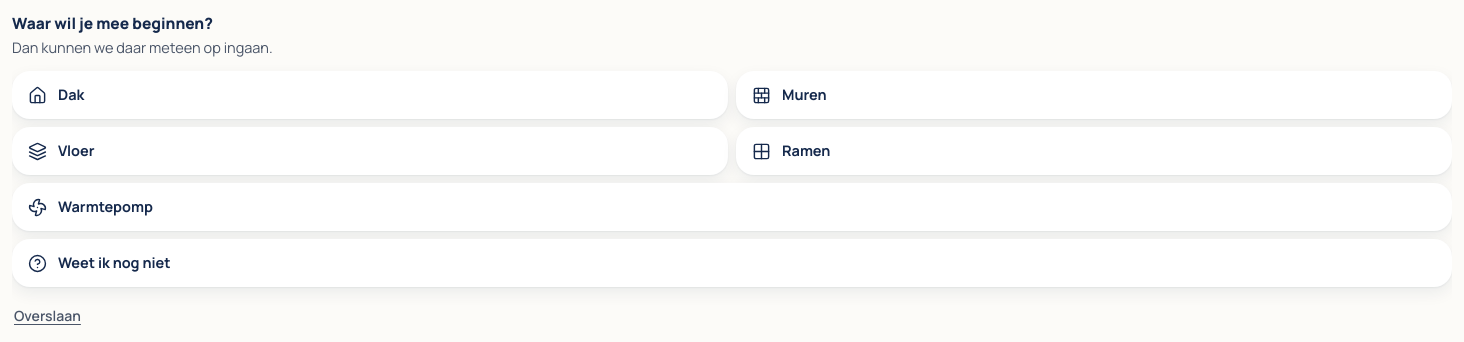
it: waar wil je mee beginnen? › 'Weet ik nog niet' bedankt wel maar stuurt niets naar de lead
The width and height of the screenshot is (1464, 342).
Click the radio button labelled "Weet ik nog niet". click: (114, 263)
box: [12,239,1452,287]
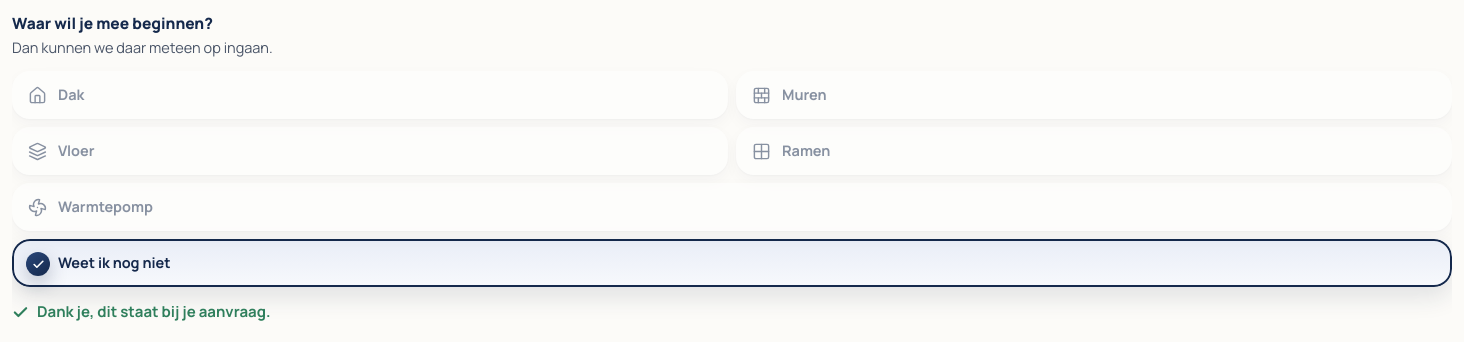
Expected: the text "Dank je, dit staat bij je aanvraag." is shown, [12,301,270,322]
